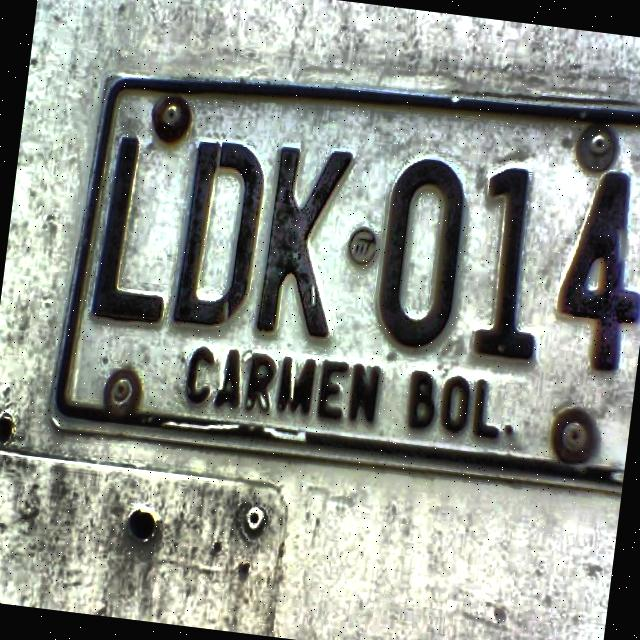0: (368, 152, 478, 353)
1: (452, 157, 566, 369)
4: (542, 164, 640, 380)
D: (165, 134, 272, 336)
K: (248, 140, 354, 344)
L: (88, 132, 186, 328)
